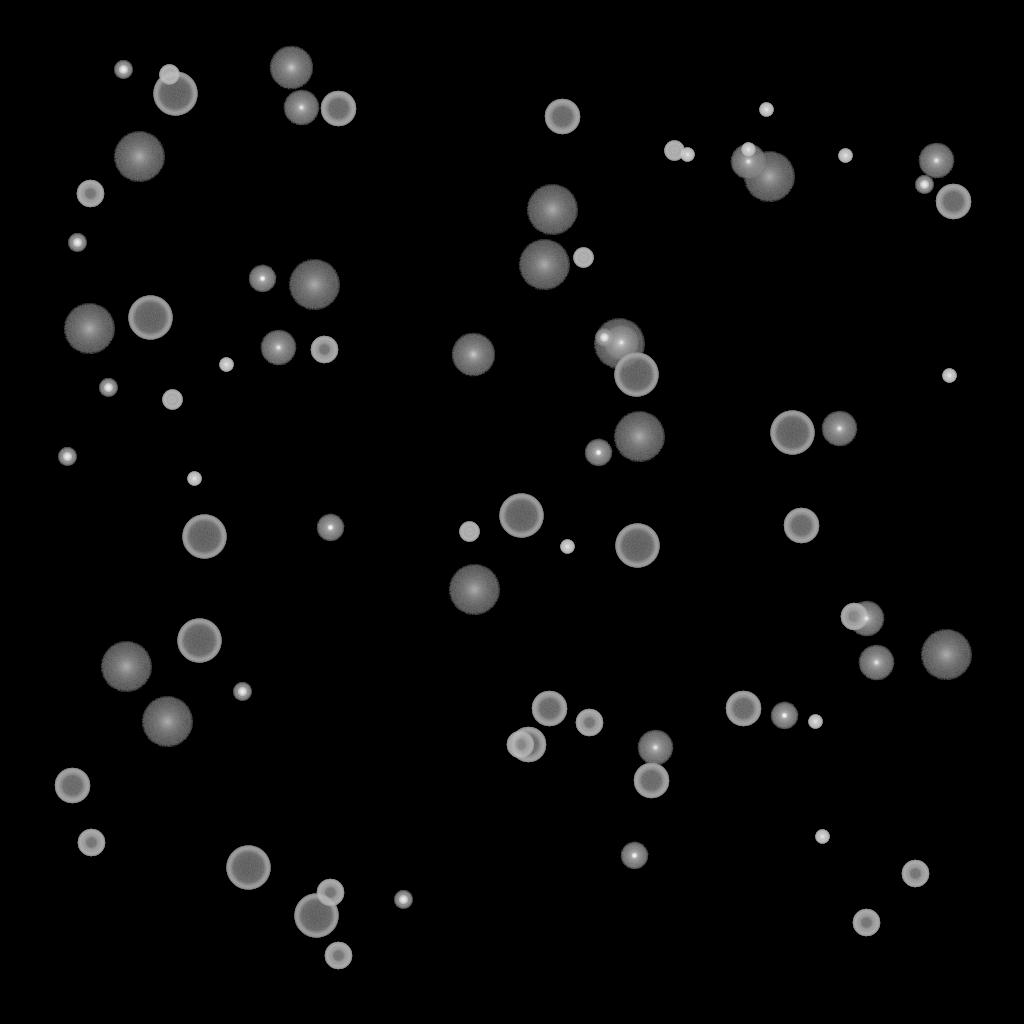depth:-10: (248, 265, 276, 293), (584, 439, 612, 467), (620, 842, 648, 870), (770, 702, 798, 730), (316, 514, 344, 542)
depth:-20: (233, 683, 251, 701), (99, 379, 117, 397), (114, 61, 132, 79), (68, 234, 86, 252), (915, 176, 933, 194), (595, 329, 613, 347), (58, 448, 76, 466), (394, 891, 412, 909)
depth:-30: (808, 715, 822, 729), (187, 472, 201, 486), (741, 143, 755, 157), (219, 358, 233, 372), (680, 148, 694, 162), (815, 830, 829, 844), (759, 103, 773, 117), (560, 540, 574, 554), (838, 149, 852, 163), (942, 369, 956, 383)
depth:-40: (159, 65, 179, 85), (459, 522, 479, 542), (162, 390, 182, 410), (664, 141, 684, 161), (573, 248, 593, 268)
depth:-50: (324, 942, 352, 970), (77, 829, 105, 857), (76, 180, 104, 208), (901, 860, 929, 888), (840, 603, 868, 631), (506, 731, 534, 759), (852, 909, 880, 937), (575, 709, 603, 737), (310, 336, 338, 364), (316, 879, 344, 907)
depth:-60: (544, 99, 580, 135), (725, 691, 761, 727), (531, 691, 567, 727), (783, 508, 819, 544), (54, 768, 90, 804), (510, 727, 546, 763), (320, 91, 356, 127), (633, 763, 669, 799), (935, 184, 971, 220)
depth:-70: (226, 846, 270, 890), (499, 494, 543, 538), (177, 619, 221, 663), (294, 894, 338, 938), (182, 515, 226, 559), (770, 411, 814, 455), (153, 72, 197, 116), (128, 296, 172, 340), (615, 524, 659, 568), (614, 353, 658, 397)
depth:0: (283, 90, 319, 126), (603, 325, 639, 361), (848, 601, 884, 637), (730, 144, 766, 180), (858, 645, 894, 681), (918, 143, 954, 179), (260, 330, 296, 366), (821, 411, 857, 447), (637, 730, 673, 766)
depth:10: (269, 46, 313, 90), (451, 333, 495, 377)
depth:20: (113, 132, 165, 182), (63, 304, 115, 354), (613, 412, 665, 462), (920, 630, 972, 680), (526, 185, 578, 235), (448, 565, 500, 615), (518, 240, 570, 290), (593, 319, 645, 369), (141, 697, 193, 747), (288, 260, 340, 310), (743, 152, 795, 202), (100, 642, 152, 692)
